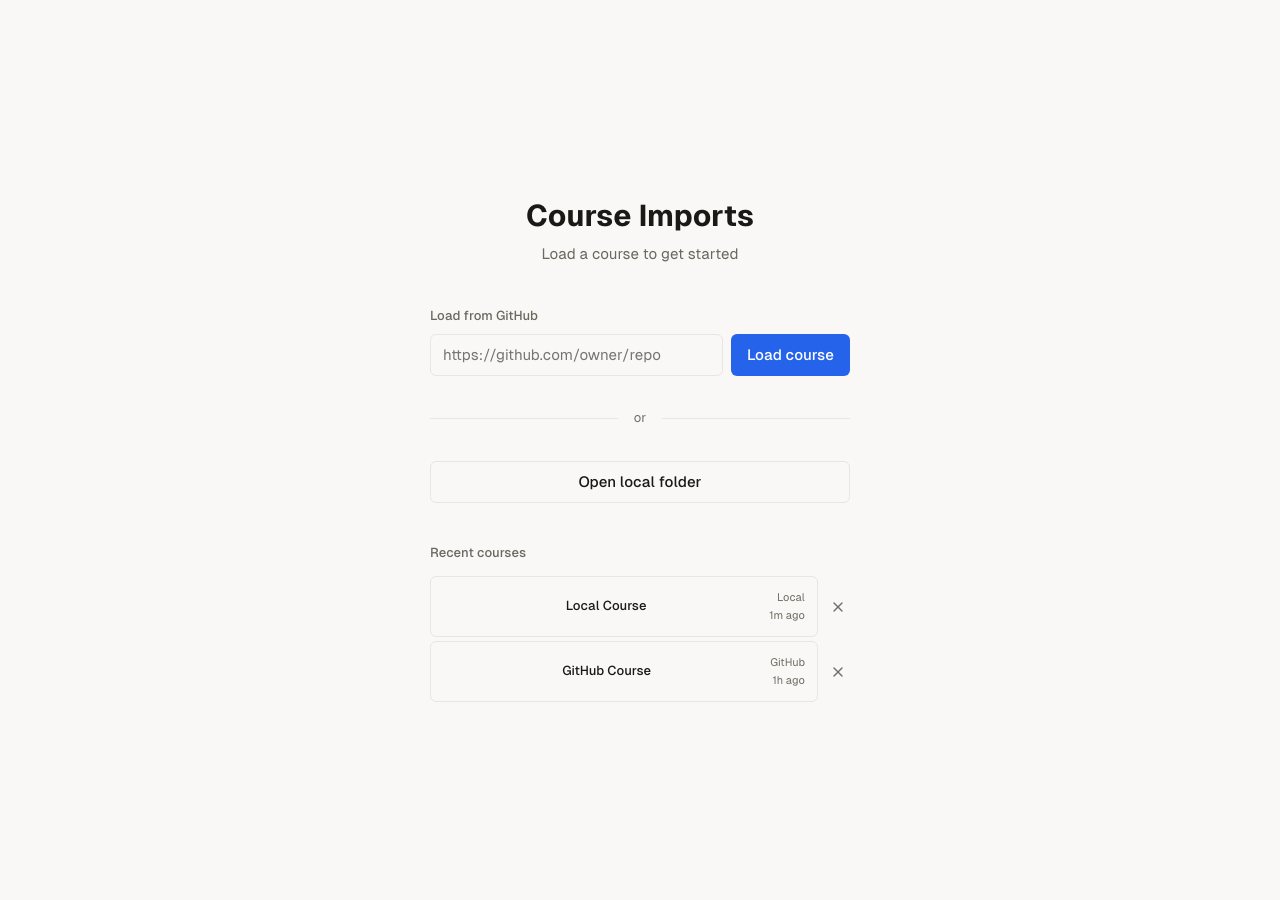
Test: Home › Recent courses › updates the list after removal without full re-fetch
Expected: the text "Local Course" is shown, [566,598,646,613]
Expected: the text "GitHub Course" is shown, [562,663,651,678]
Click the button named "Remove Local Course": (838, 607) [826,595,850,619]
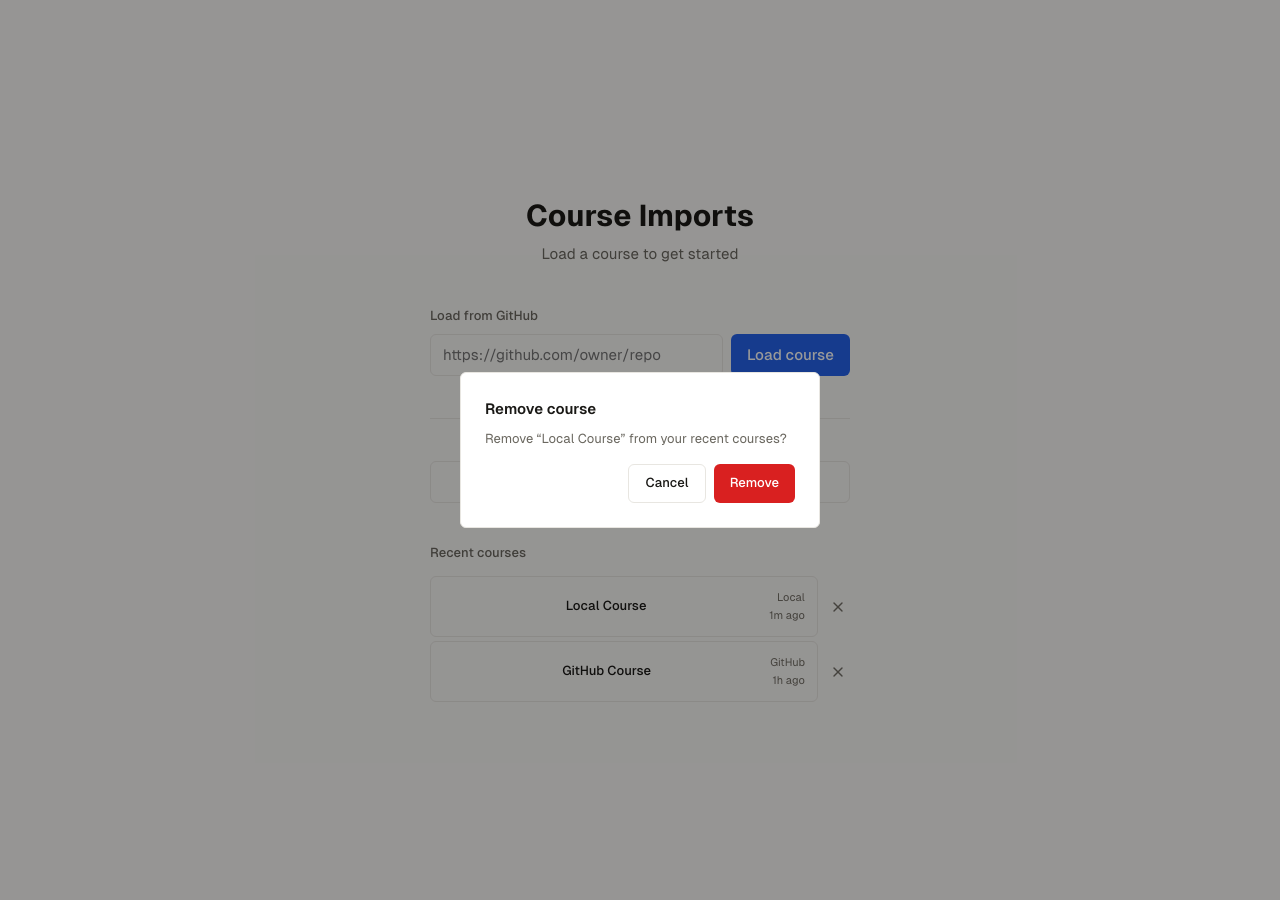
Expected: the dialog named "Confirm removal" is shown
Click the button "Remove": (754, 484) [714,464,795,503]
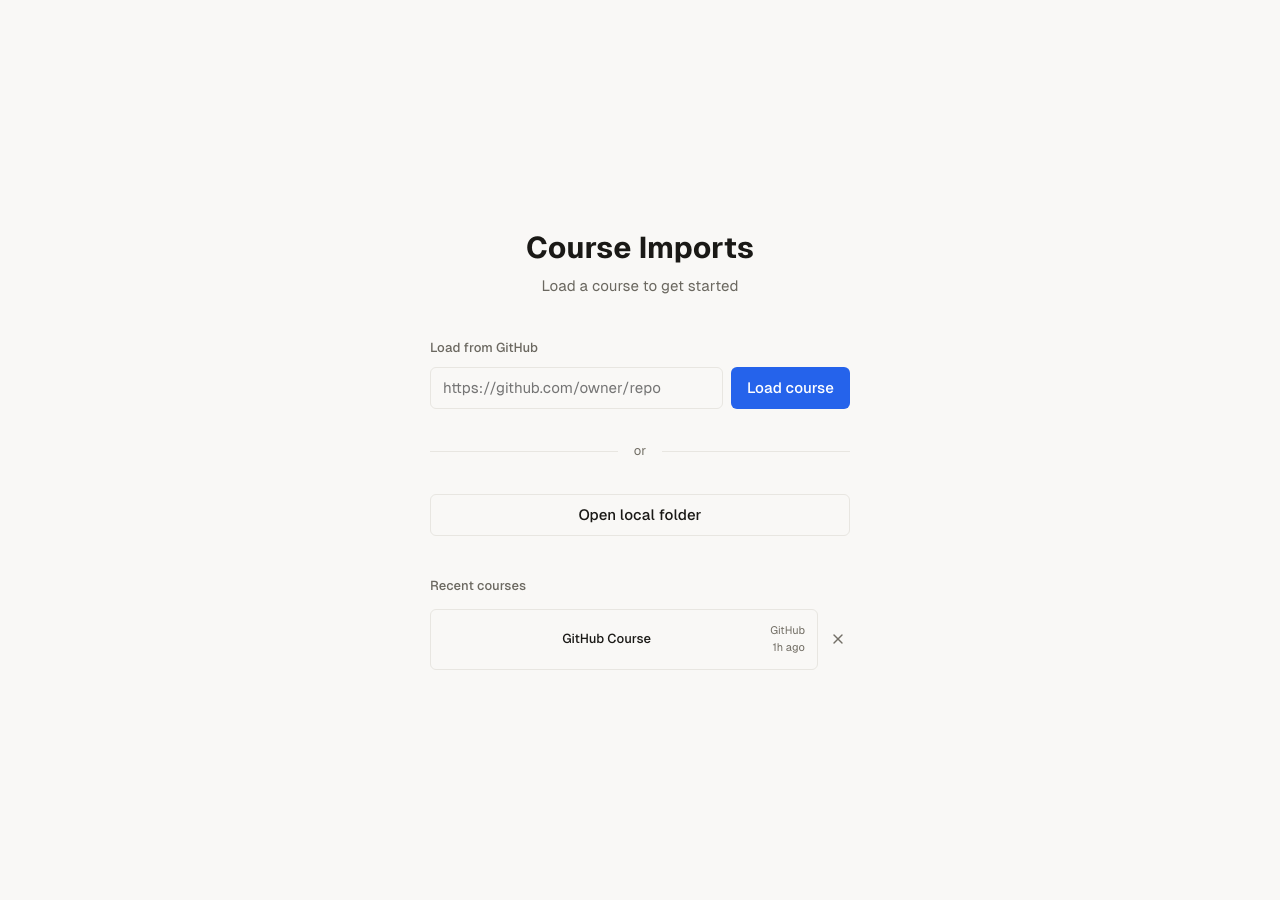
Expected: the text "GitHub Course" is shown, [562,631,651,646]
Expected: the button "Local Course" is gone
